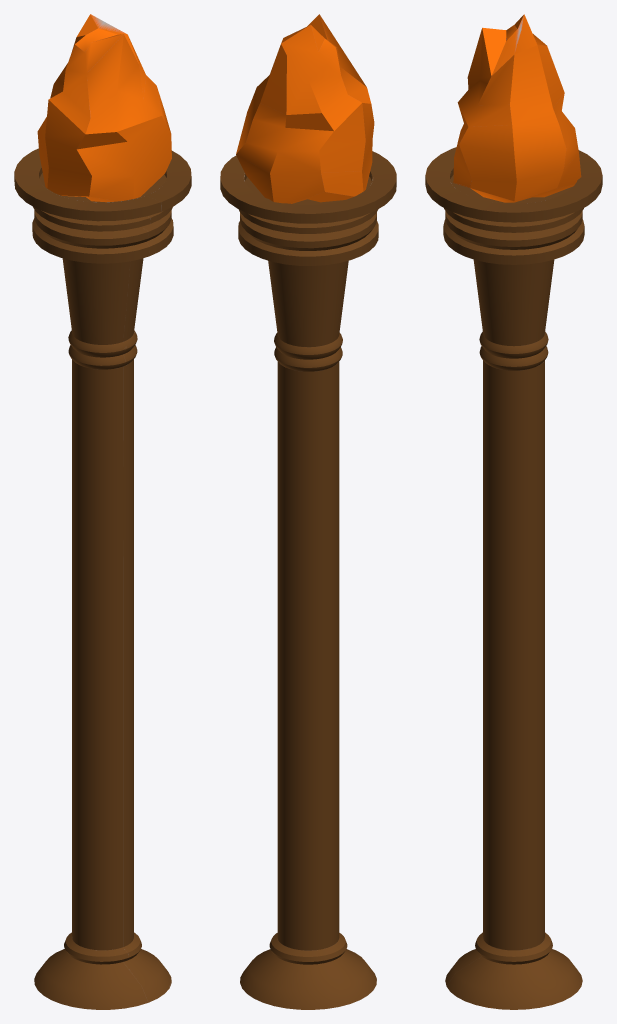
File: torche grande.fbx
3 views of the same model, side by side, from view 1: azimuth 30°, elevation 25°; view 2: azimuth 150°, elevation 25°; view 3: azimuth 270°, elevation 25° (orthographic).
Parts seen in each view (by area): view 1: Cube.001, Cube.005; view 2: Cube.001, Cube.005; view 3: Cube.001, Cube.005.
Part boxes in pixels (bbox=[...]): Cube.001: bbox=[14, 148, 191, 1009]; Cube.005: bbox=[37, 14, 171, 202]; Cube.001: bbox=[220, 151, 396, 1009]; Cube.005: bbox=[236, 14, 374, 203]; Cube.001: bbox=[425, 147, 602, 1009]; Cube.005: bbox=[453, 14, 581, 202].
Size of the model in its own units: 10 by 60 by 10.
